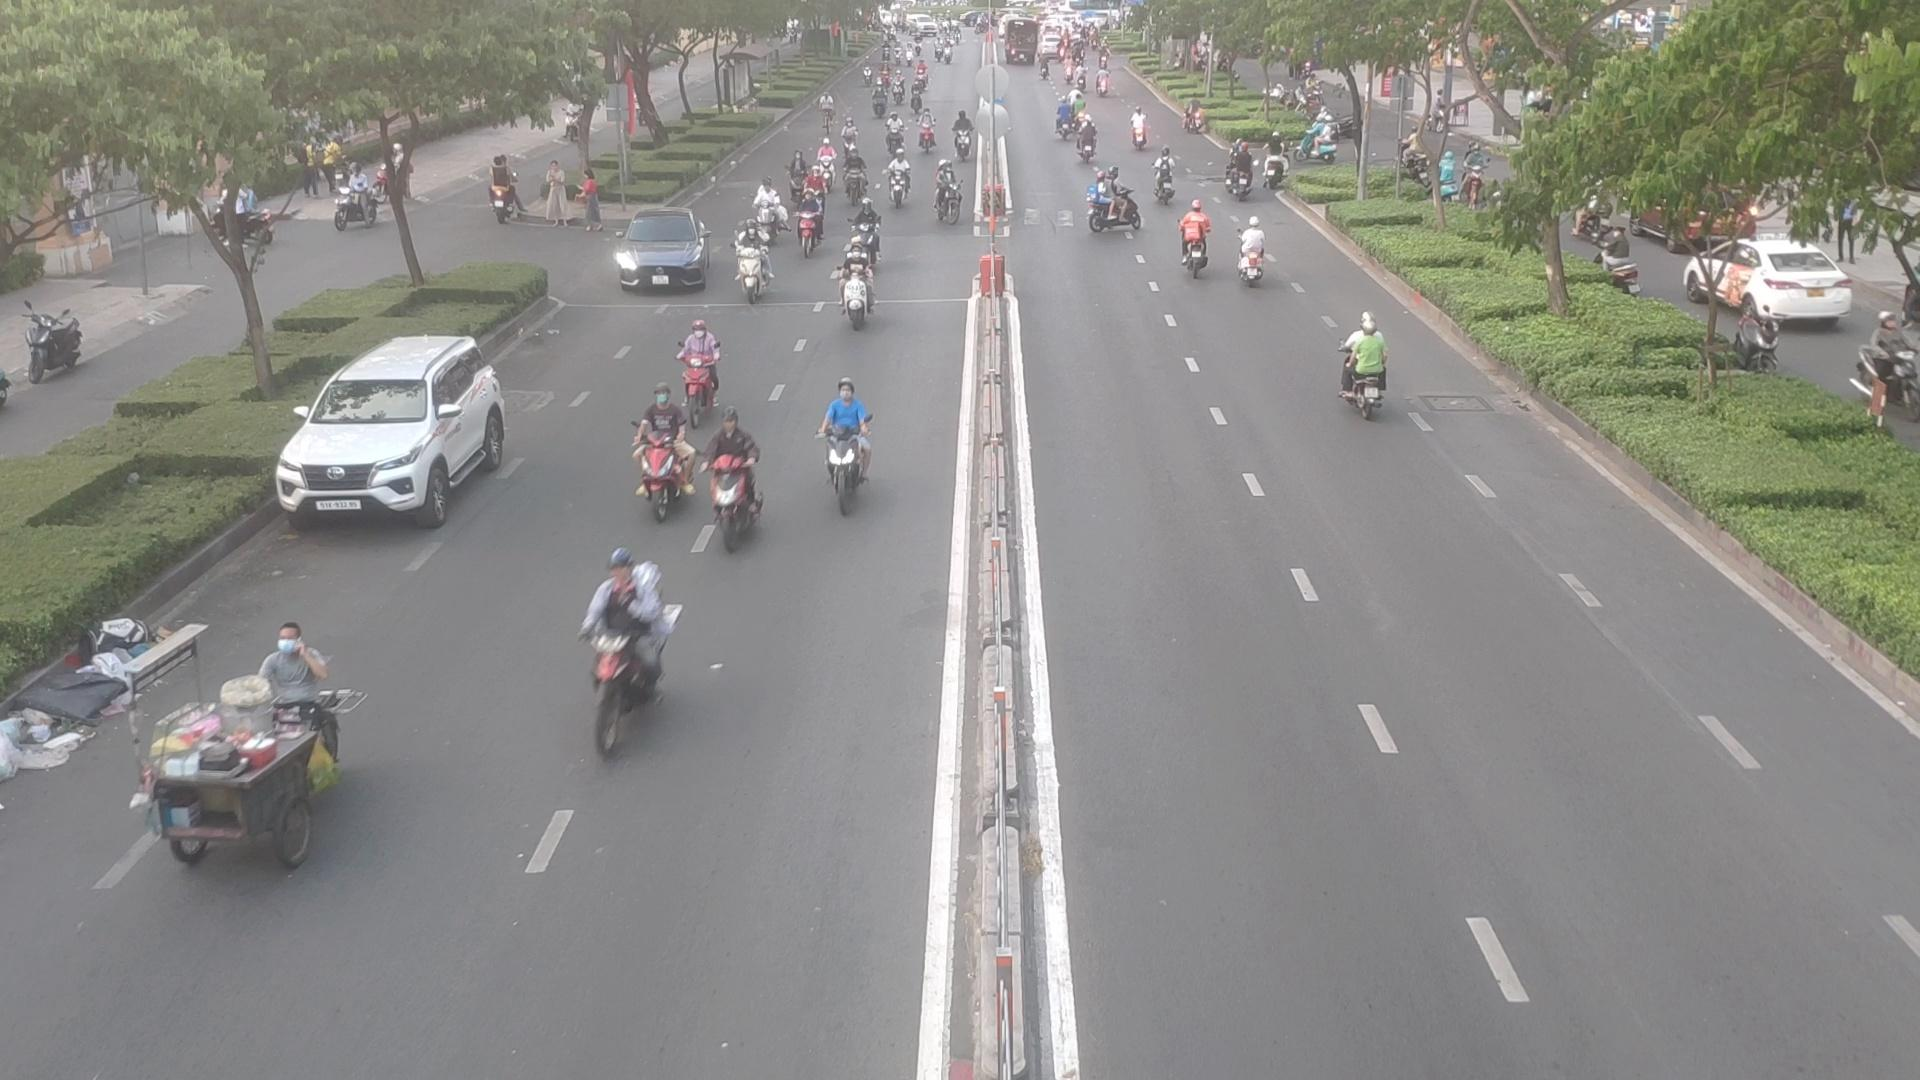car: (274, 342, 520, 521), (1700, 257, 1854, 328), (612, 218, 717, 291)
motorbike: (568, 560, 680, 753), (626, 401, 713, 529), (705, 414, 764, 559), (810, 396, 876, 512), (1338, 328, 1402, 425), (679, 326, 720, 426), (833, 265, 878, 334), (1087, 179, 1135, 236), (1238, 225, 1279, 289), (1176, 218, 1213, 278), (735, 251, 771, 306), (1153, 156, 1185, 204), (796, 211, 828, 256), (1131, 113, 1159, 149), (1055, 109, 1083, 142), (1077, 125, 1102, 160)
